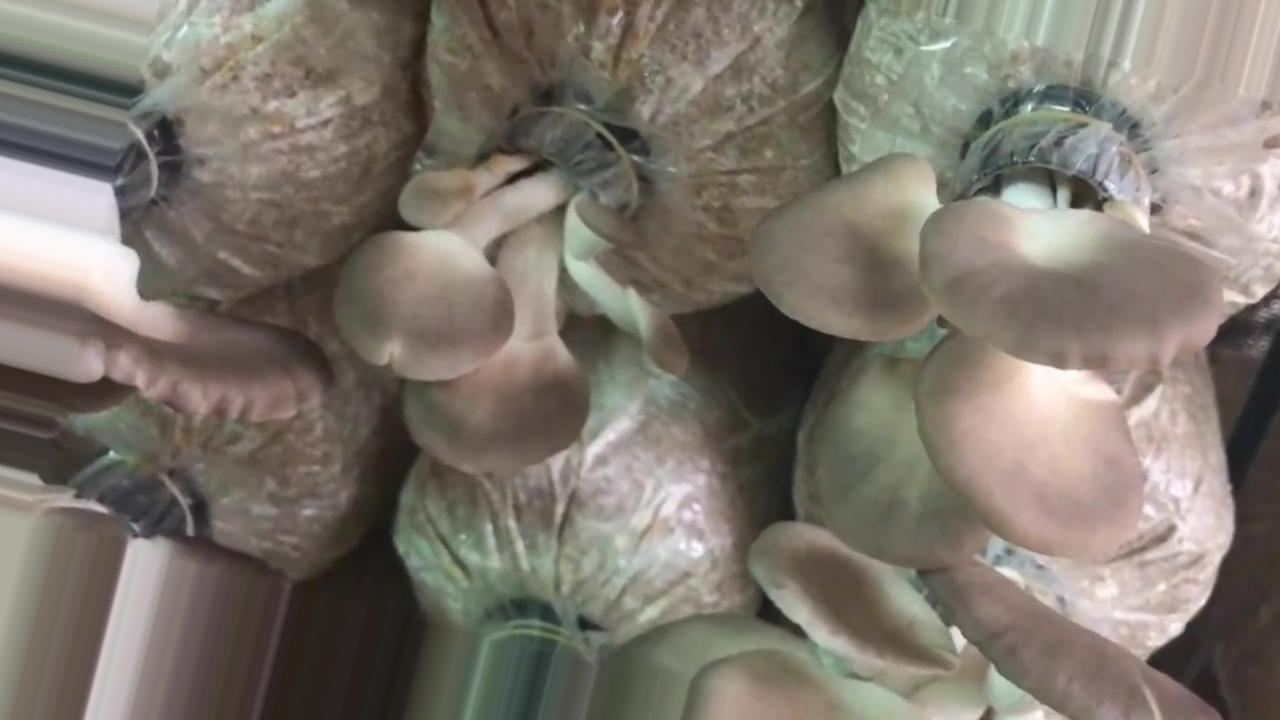nam: (748, 124, 1213, 567), (335, 95, 688, 471), (616, 525, 1214, 720), (1, 85, 328, 418)
